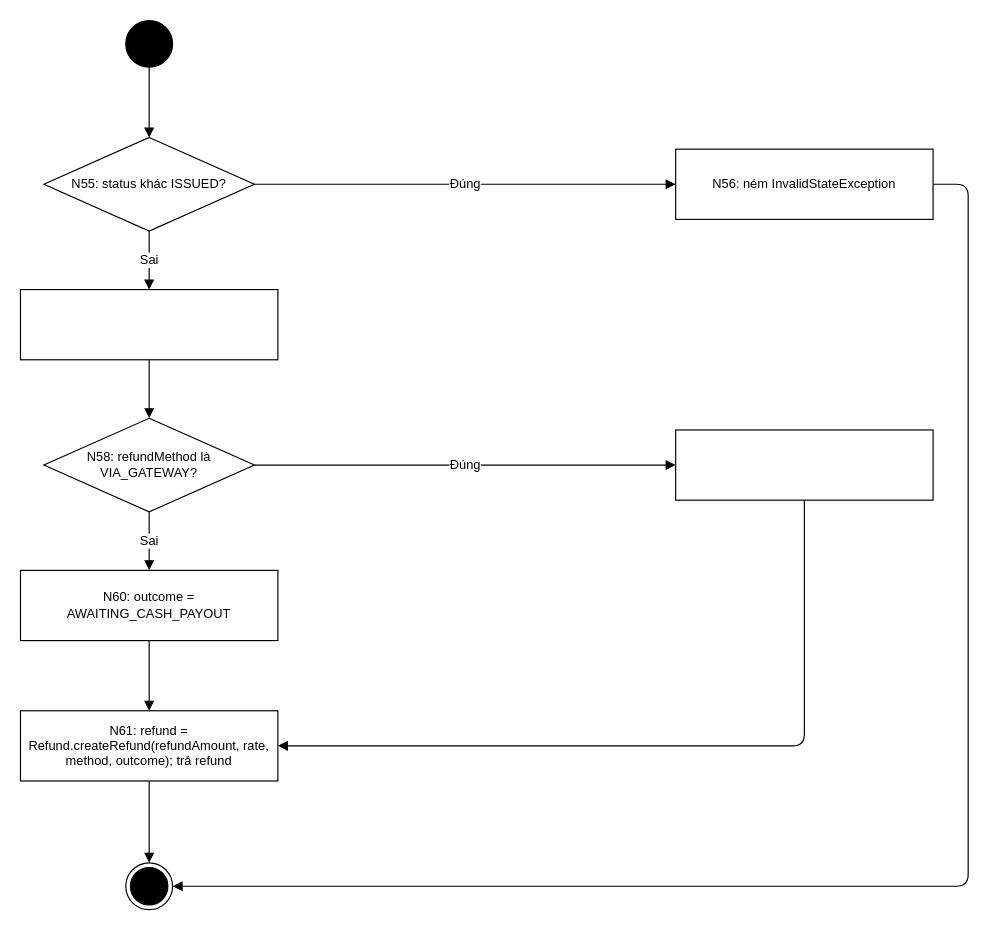
The diagram is 998 pixels wide and 930 high, and some of its shapes have lost their labels. Each missing label, with the centre of its shape:
N57: status = CANCELLED; seat.release(): pixel 148 324
N59: outcome = REFUNDED: pixel 804 464
